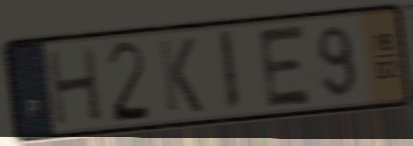2: (104, 38, 153, 125)
9: (314, 21, 360, 101)
E: (256, 21, 316, 111)
H: (44, 43, 106, 129)
I: (216, 27, 242, 116)
K: (156, 35, 206, 115)
